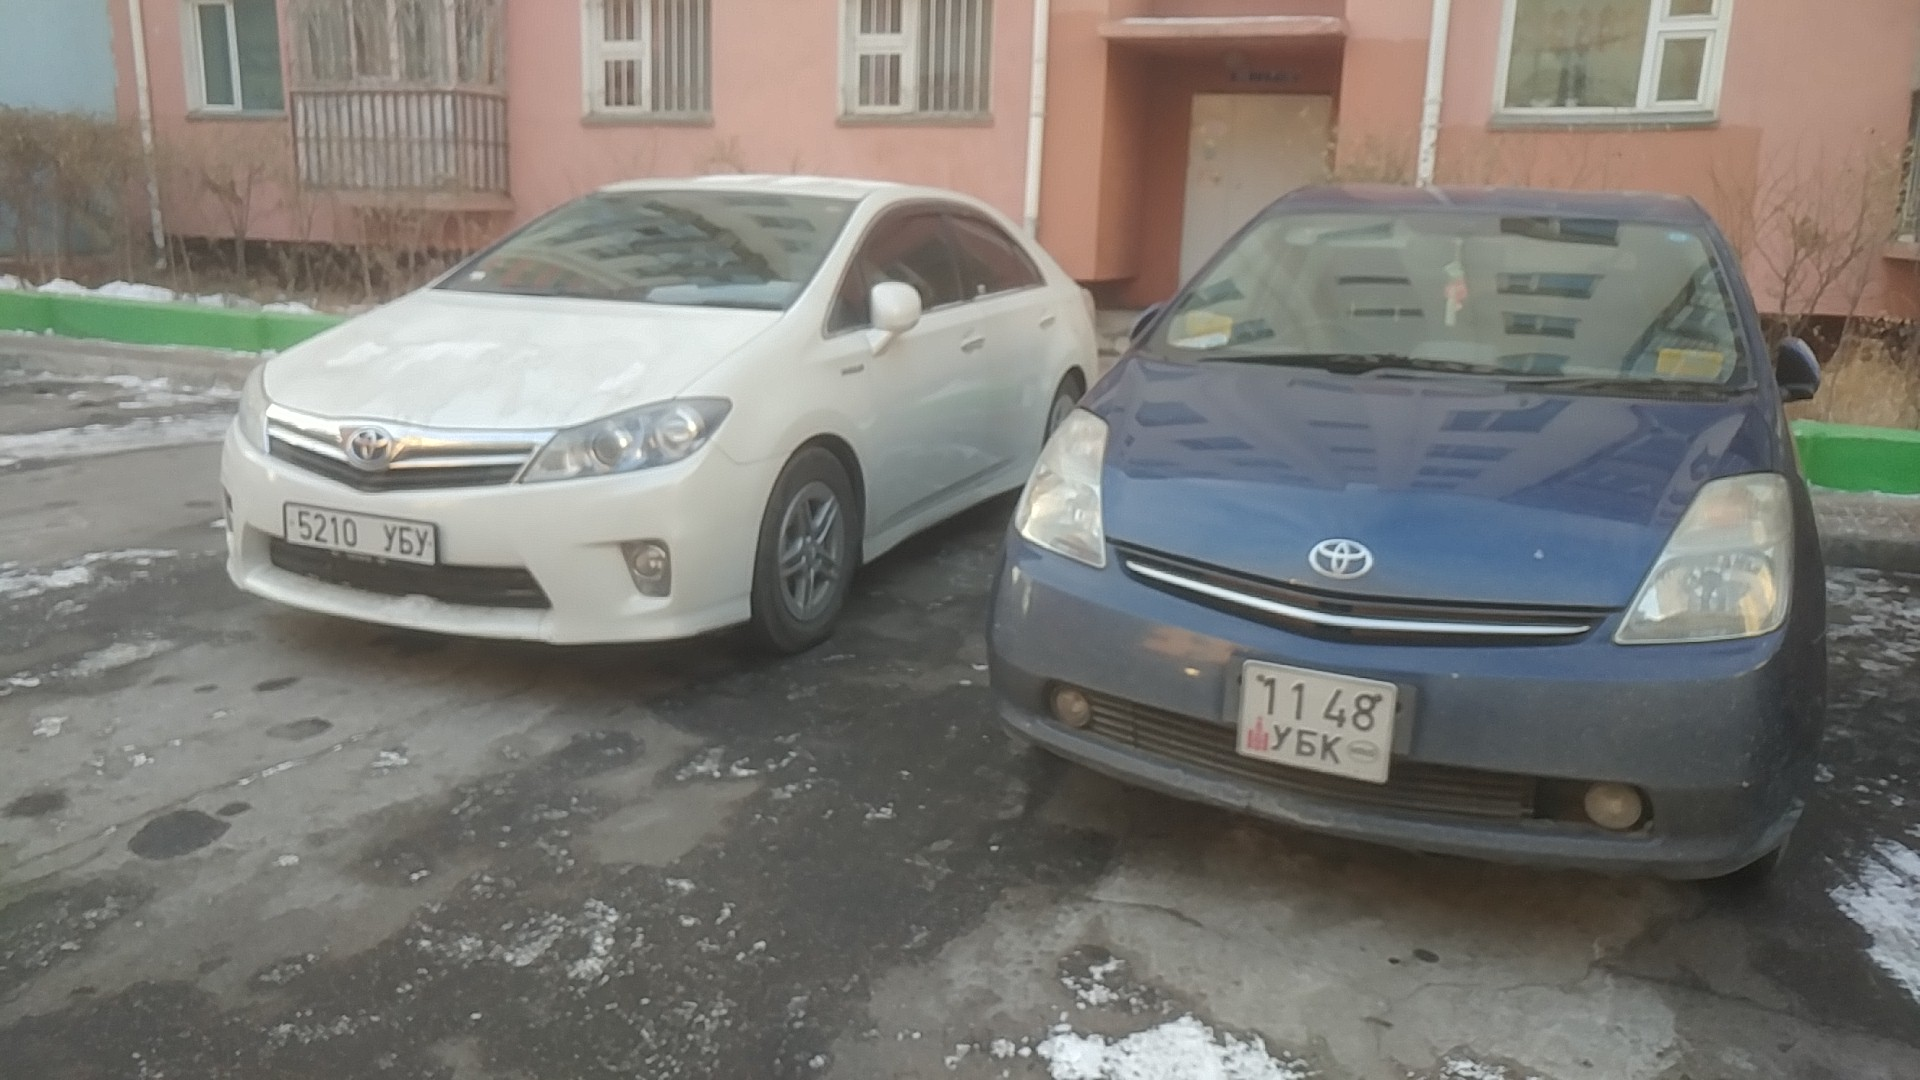0: (341, 517, 358, 547)
1: (1289, 682, 1307, 720), (1262, 676, 1279, 715), (330, 516, 341, 544)
2: (313, 512, 328, 543)
4: (1322, 685, 1348, 728)
5: (298, 510, 314, 540)
8: (1351, 692, 1376, 732)
b: (1294, 727, 1318, 758), (398, 524, 413, 556)
k: (1319, 731, 1342, 765)
plate: (1232, 656, 1398, 788), (281, 498, 440, 570)
u: (1271, 722, 1293, 752), (414, 526, 428, 558), (383, 523, 397, 552)
